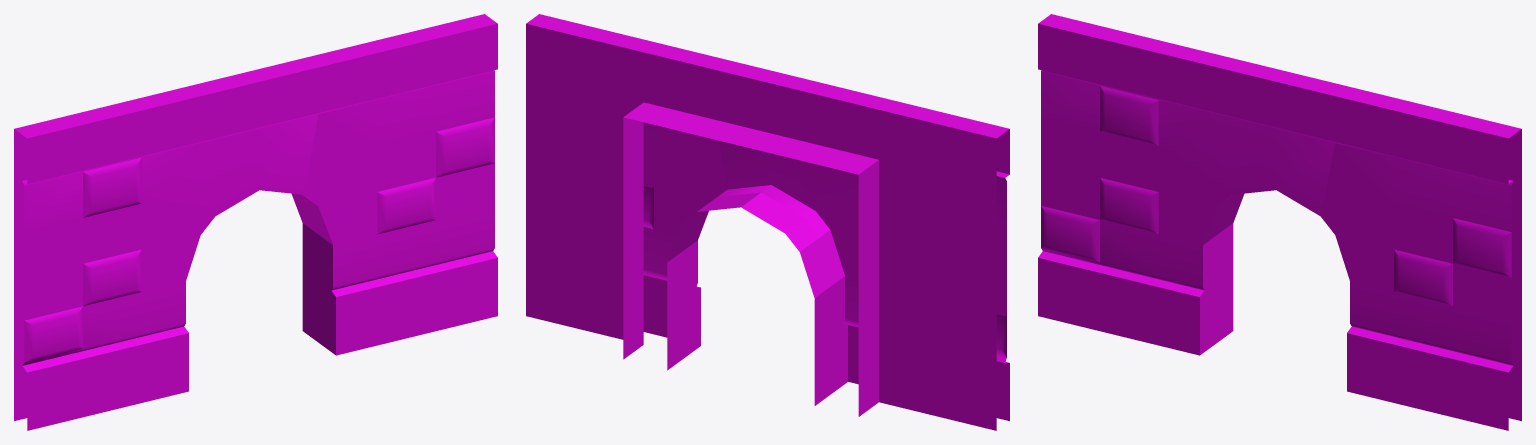
Rendered from m_dungeonwallhole.fbx.
The picture shows the model from 3 angles, left to right: view 1: azimuth 30°, elevation 25°; view 2: azimuth 150°, elevation 25°; view 3: azimuth 330°, elevation 25°; orthographic projection.
Parts seen in each view (by area): view 1: m_dungeonwallhole; view 2: m_dungeonwallhole; view 3: m_dungeonwallhole.
Boxes of the visible parts, <box> form: m_dungeonwallhole: <box>14,14,497,430</box>; m_dungeonwallhole: <box>526,14,1009,430</box>; m_dungeonwallhole: <box>1038,14,1521,430</box>.
Bounding box in the file's own units: 8 × 4.75 × 0.9892.
